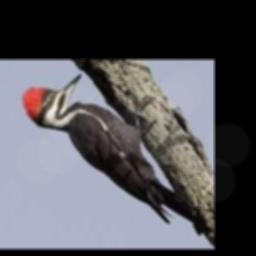Woodpecker: (21, 73, 212, 235)
